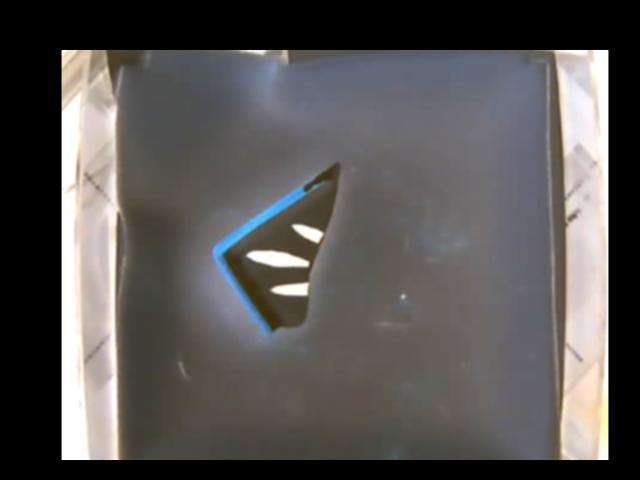China: (213, 160, 345, 331)
